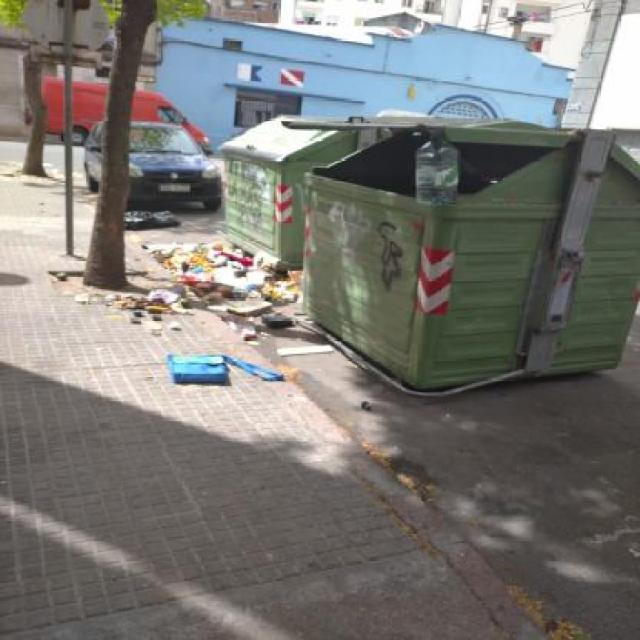garbage: (117, 206, 338, 402), (48, 266, 196, 328)
